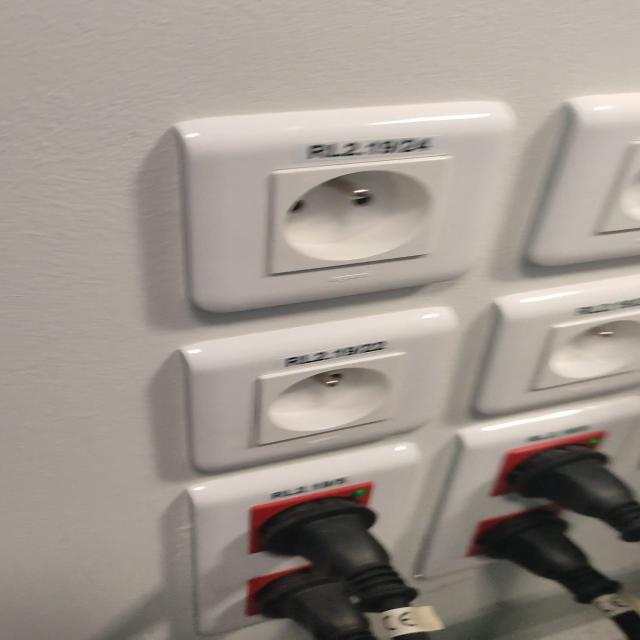house plug: (268, 157, 452, 275), (259, 352, 401, 445)
